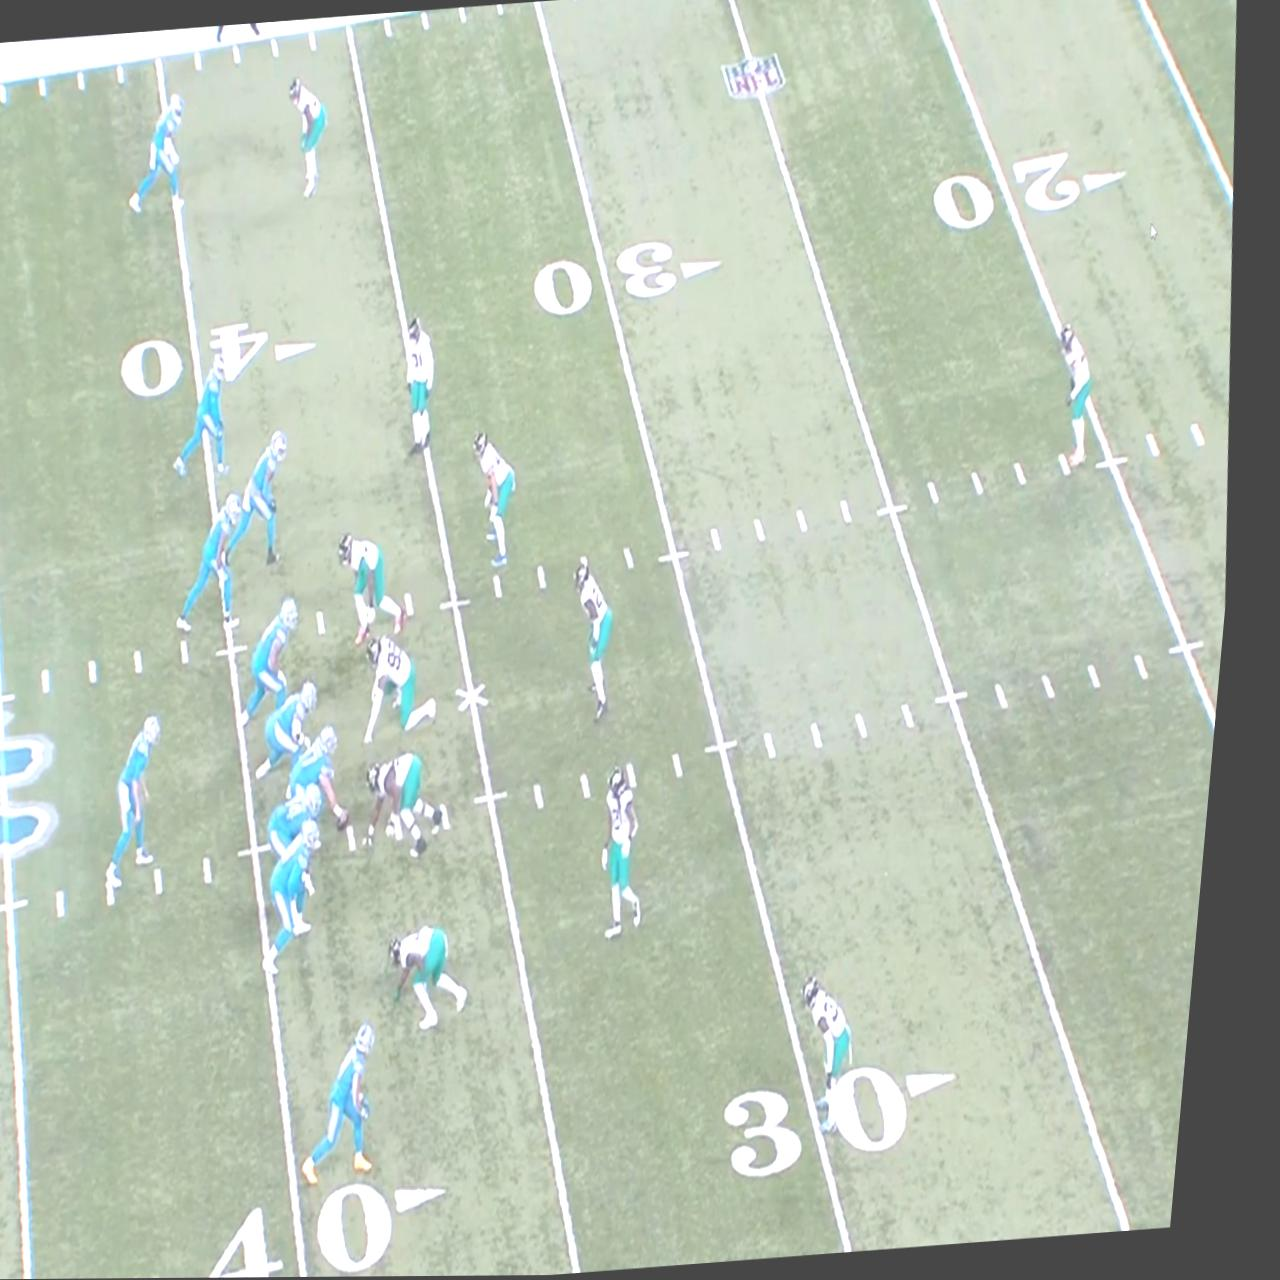20R: (933, 149, 1135, 234)
30R: (738, 1063, 982, 1179), (536, 236, 731, 318)
40R: (225, 1176, 475, 1278), (122, 319, 327, 399)
